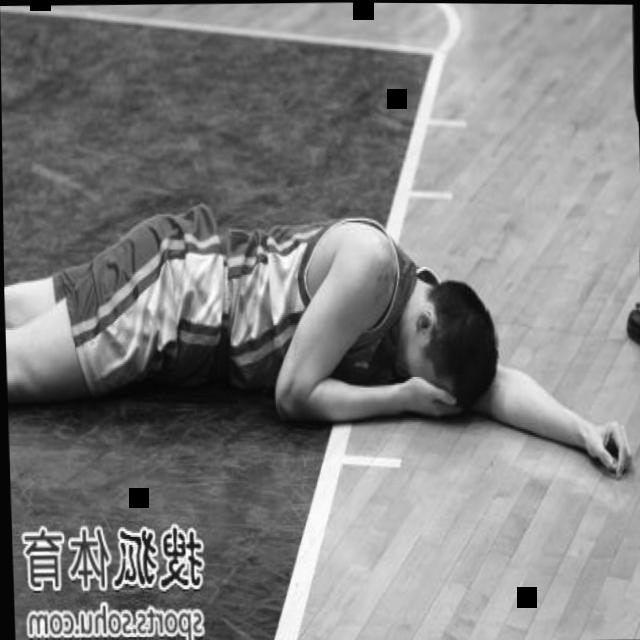Fall-Detected: (14, 185, 629, 461)
